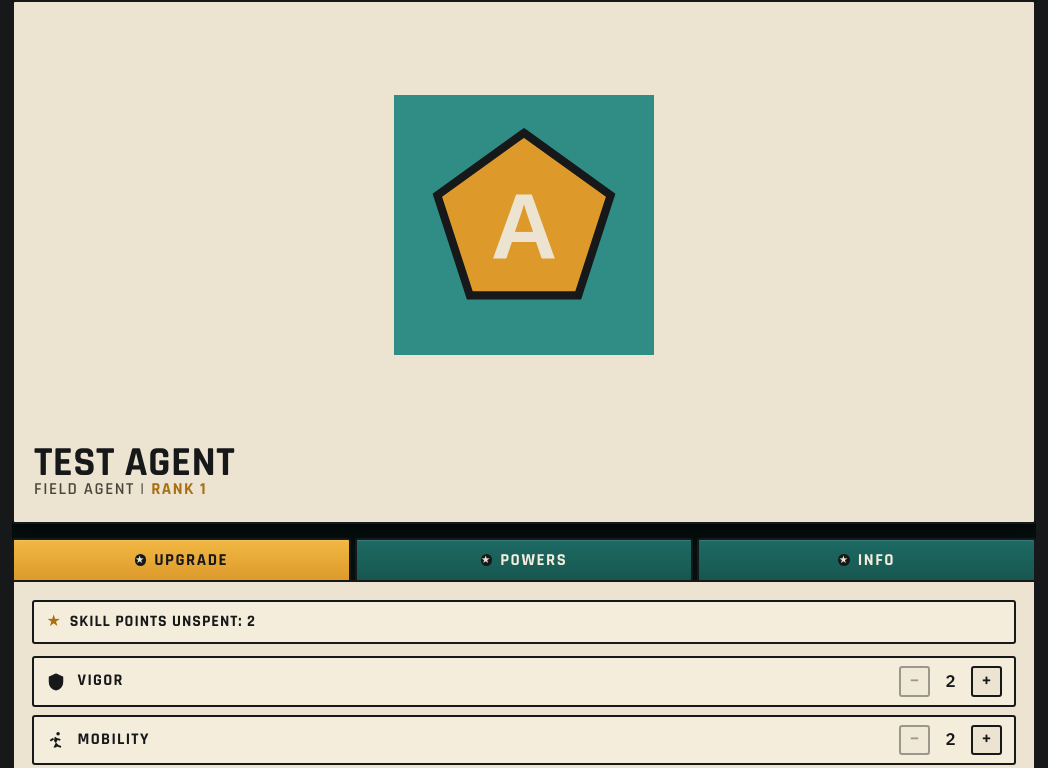
Test: CharacterSheet - staged stat allocation › stages a point on [+] without committing it
Click the button named "Increase Vigor": click(986, 682) [971, 666, 1002, 697]
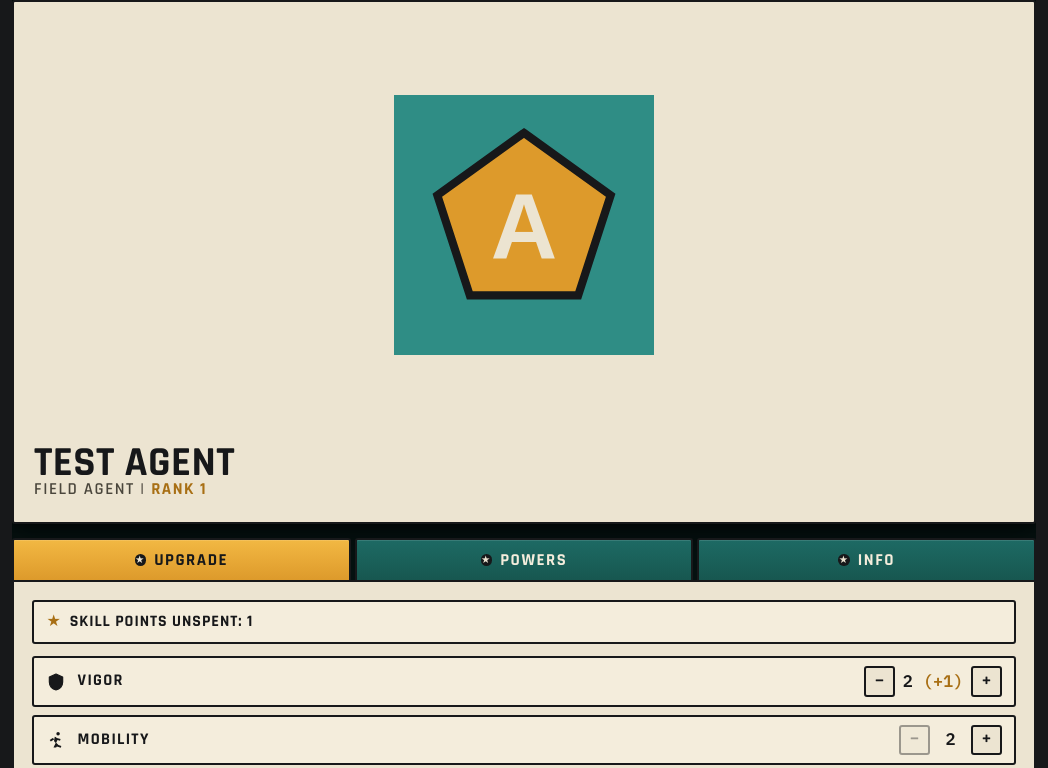
Expected: the text "★ SKILL POINTS UNSPENT: 1" is shown, [32, 600, 1016, 644]
